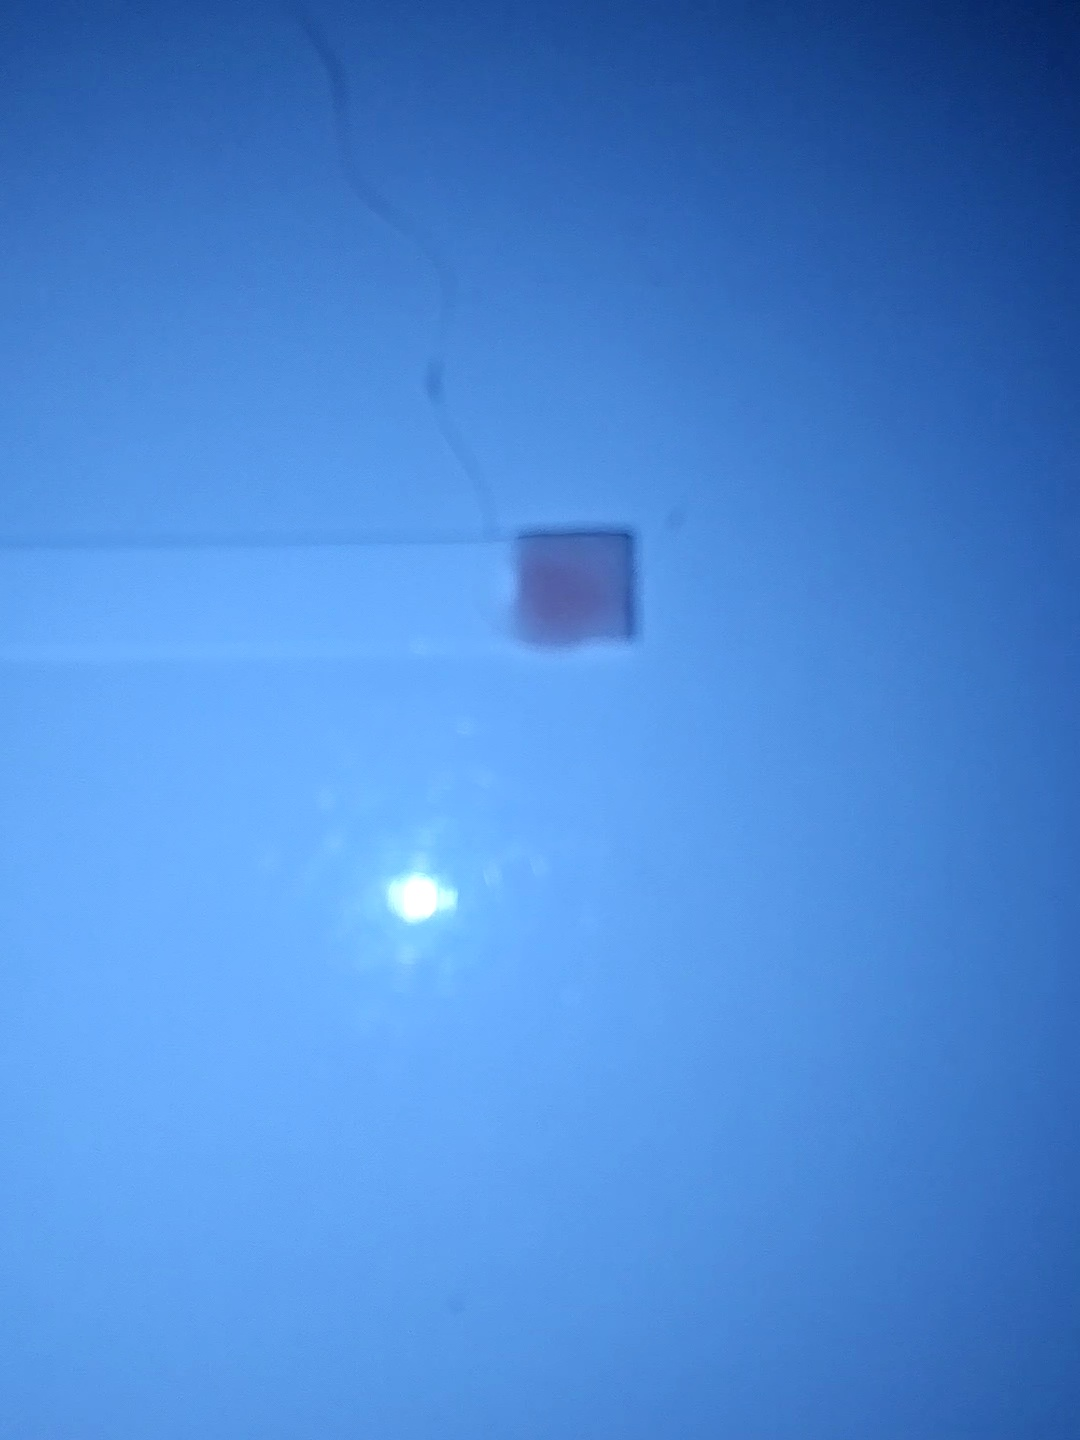keto-tip: (506, 524, 641, 657)
